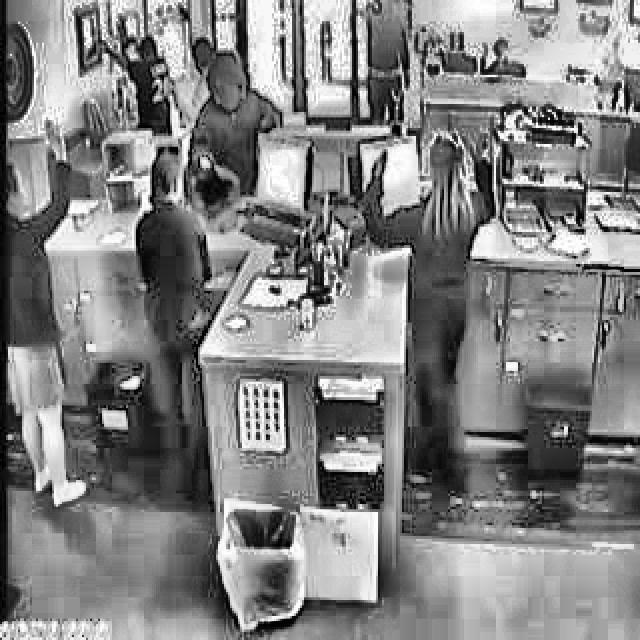robbery: (182, 50, 292, 232), (354, 127, 505, 256), (358, 0, 414, 125), (90, 12, 180, 85)
